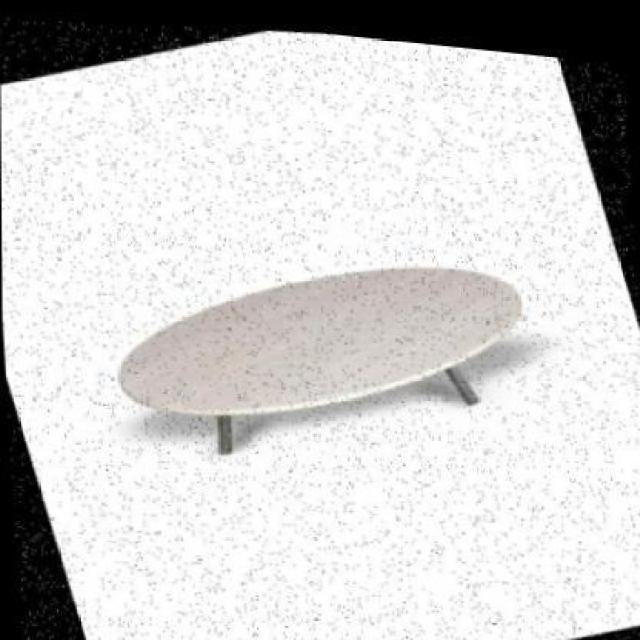tables: (0, 23, 638, 638), (116, 264, 522, 453)
